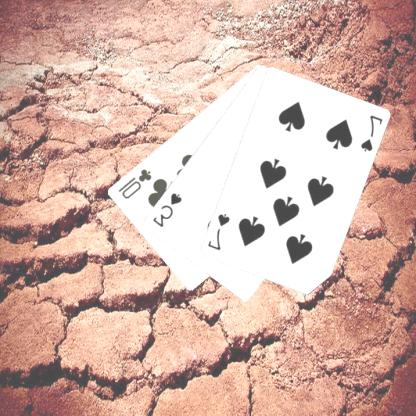10C: (116, 166, 154, 200)
3S: (151, 190, 185, 229)
7S: (206, 211, 233, 252), (359, 112, 385, 154)
